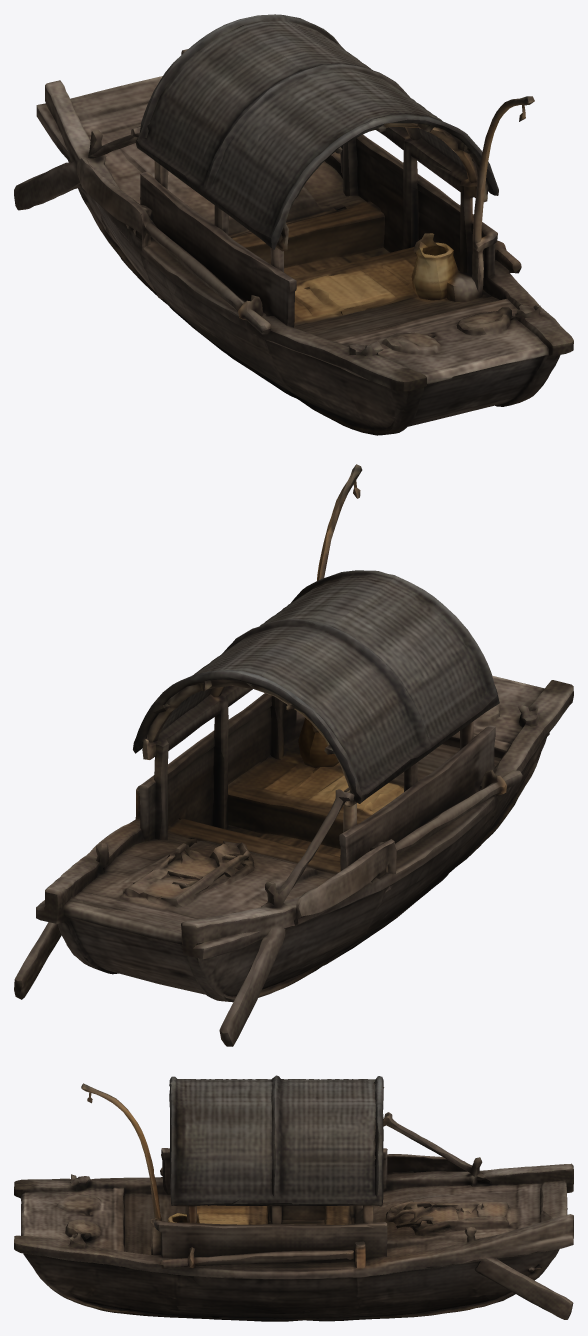
File: zhou.glb
3 renders of one model, top to bottom at view 1: azimuth 30°, elevation 25°; view 2: azimuth 150°, elevation 25°; view 3: azimuth 270°, elevation 25°, orthographic. The views are drawn at different scales.
Visible parts, largest first — view 1: world; view 2: world; view 3: world.
Part boxes in pixels (box(x1,y1,x2,y2)): world: box(14, 14, 573, 435); world: box(14, 464, 573, 1046); world: box(14, 1075, 573, 1321).
Bounding box in the file's own units: 4.5 × 5.11 × 10.81.
Materials: 1 (1 with a texture image).
